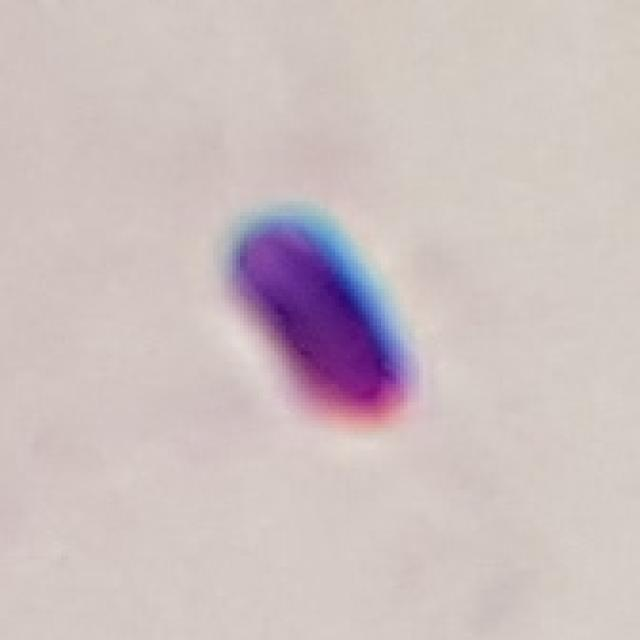non-sperm: (230, 192, 414, 428)
